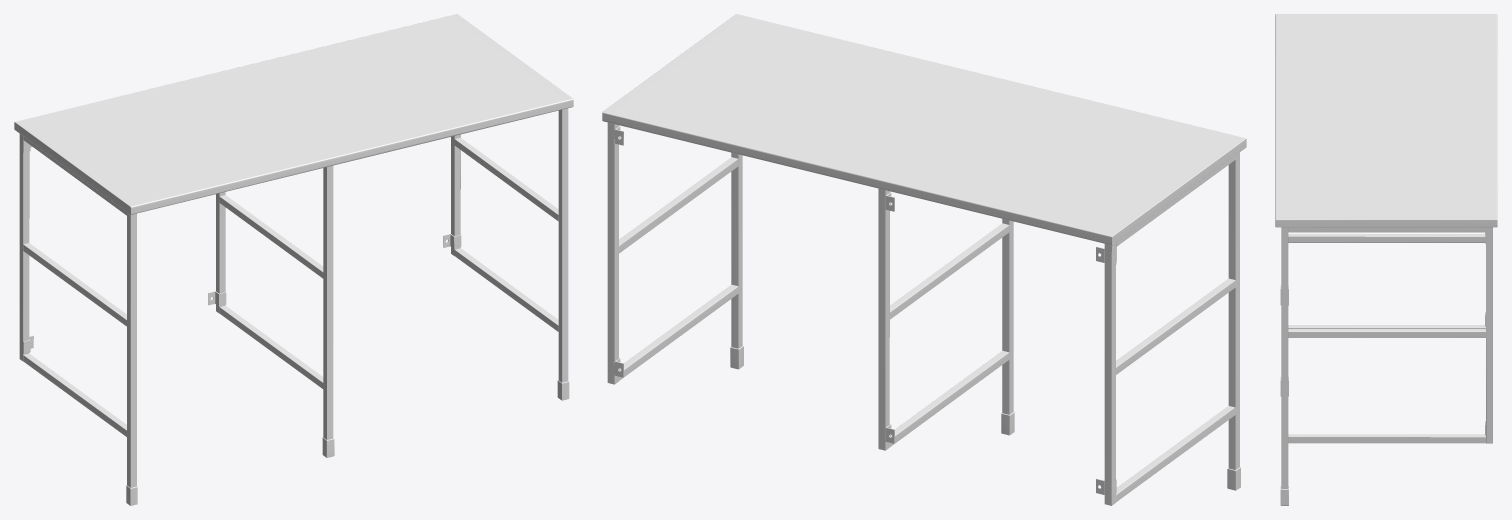
File: enhet_rega_09477427.glb
The picture shows the model from 3 angles, left to right: view 1: azimuth 30°, elevation 25°; view 2: azimuth 150°, elevation 25°; view 3: azimuth 270°, elevation 25°; orthographic projection. The views are drawn at different scales.
Visible parts, largest first — view 1: enhet_rega_09477427; view 2: enhet_rega_09477427; view 3: enhet_rega_09477427.
Boxes of the visible parts, <box> form: enhet_rega_09477427: <box>14,14,573,505</box>; enhet_rega_09477427: <box>602,14,1246,505</box>; enhet_rega_09477427: <box>1275,14,1497,505</box>.
Bounding box in the file's own units: 1.39 × 0.9048 × 0.635.
1 material, 1 textured.
